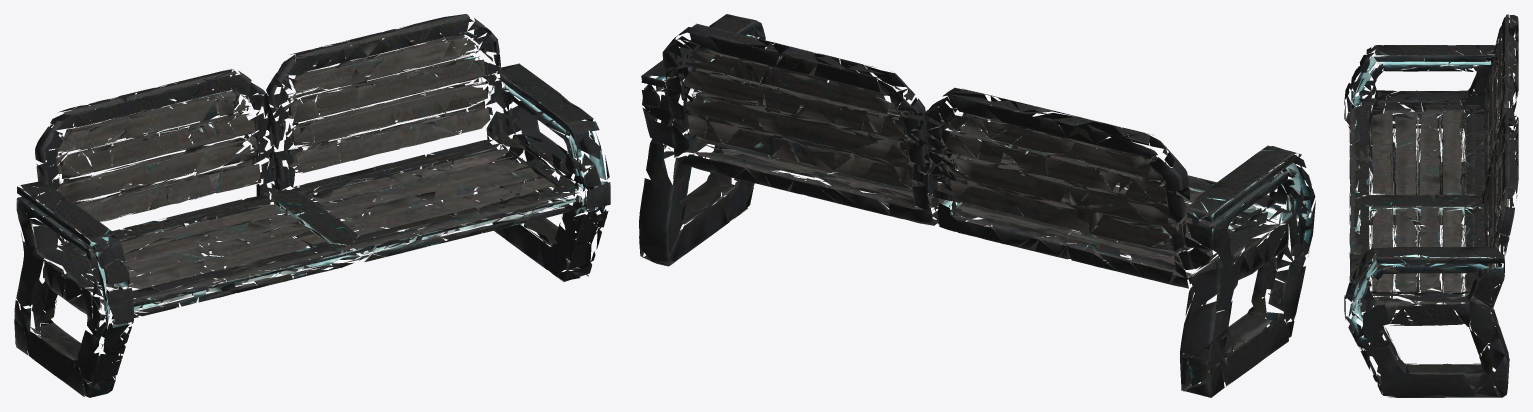
Rendered from bench-neon.glb.
The picture shows the model from 3 angles, left to right: view 1: azimuth 30°, elevation 25°; view 2: azimuth 150°, elevation 25°; view 3: azimuth 270°, elevation 25°; orthographic projection. The views are drawn at different scales.
Bounding box in the file's own units: 1.9 × 0.8015 × 0.6587.
1 material, 1 textured.
